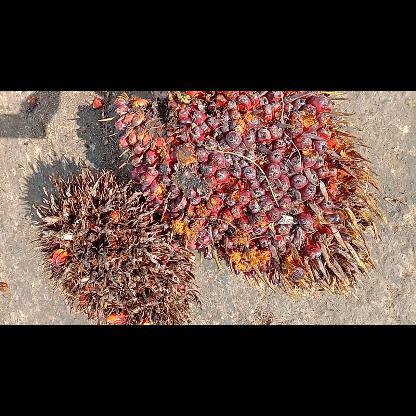TBS masak: (114, 91, 386, 297)
Terlalu masak: (34, 162, 200, 324)
